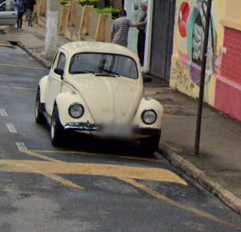car: (33, 38, 165, 154)
